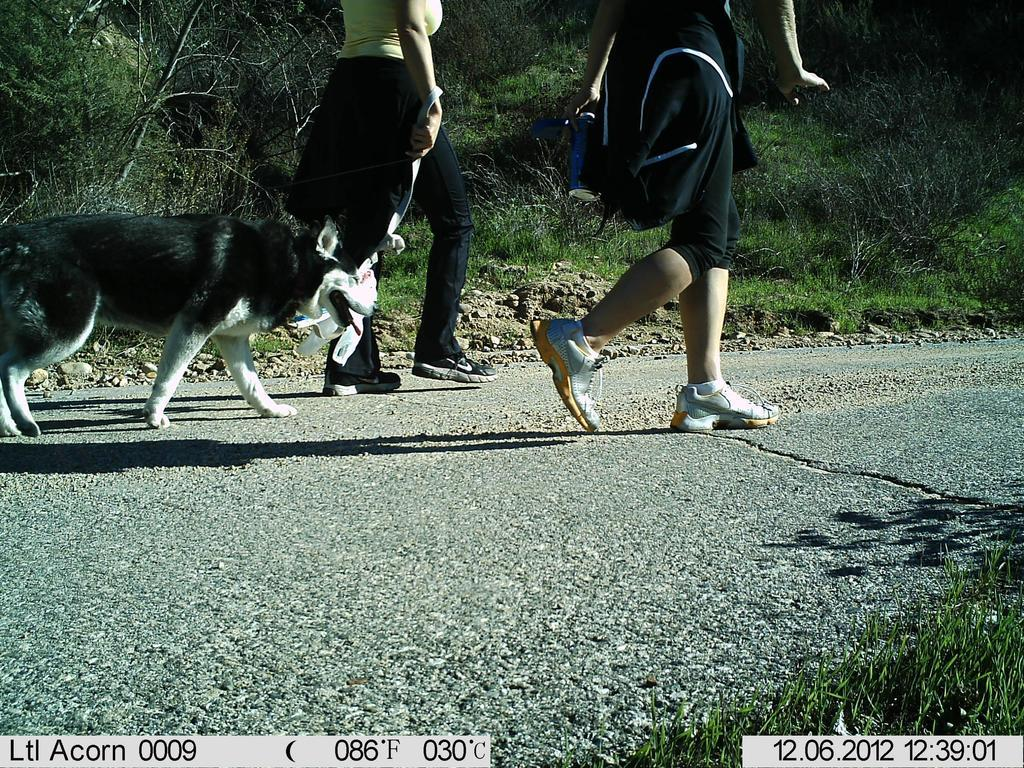dog: (1, 206, 369, 453)
